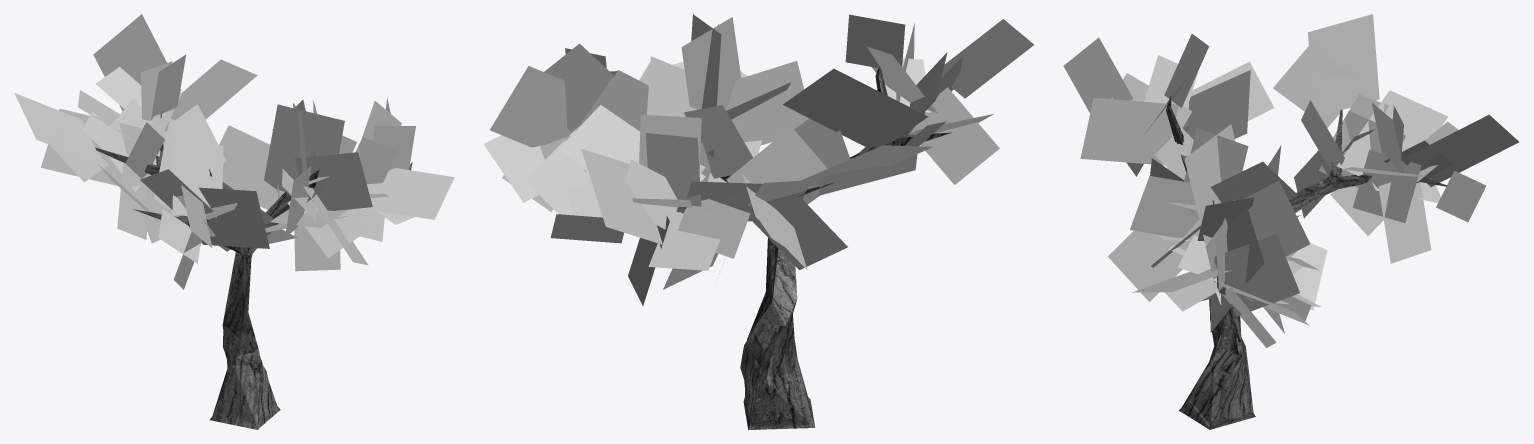
The model's file is SM_Tree_And_Bushes.fbx_SM_Tree_2_Lod.fbx.
3 renders of one model, left to right at view 1: azimuth 30°, elevation 25°; view 2: azimuth 150°, elevation 25°; view 3: azimuth 270°, elevation 25°, orthographic. The views are drawn at different scales.
Visible parts, largest first — view 1: SM_Tree_2_Lod_High.001, SM_Tree_2_Lod_Mid, SM_Tree_2_Lod_Low, SM_Tree_2_Lod_Mid.001, SM_Tree_2_Lod_High; view 2: SM_Tree_2_Lod_High.001, SM_Tree_2_Lod_Mid, SM_Tree_2_Lod_Low, SM_Tree_2_Lod_High, SM_Tree_2_Lod_Mid.001; view 3: SM_Tree_2_Lod_High.001, SM_Tree_2_Lod_Mid, SM_Tree_2_Lod_Mid.001, SM_Tree_2_Lod_High, SM_Tree_2_Lod_Low.
Part boxes in pixels (bbox=[...]): SM_Tree_2_Lod_High.001: bbox=[47, 14, 454, 289]; SM_Tree_2_Lod_Mid: bbox=[14, 61, 414, 243]; SM_Tree_2_Lod_Low: bbox=[213, 199, 290, 429]; SM_Tree_2_Lod_Mid.001: bbox=[95, 144, 291, 429]; SM_Tree_2_Lod_High: bbox=[95, 144, 319, 428]; SM_Tree_2_Lod_High.001: bbox=[483, 14, 1034, 305]; SM_Tree_2_Lod_Mid: bbox=[490, 58, 932, 270]; SM_Tree_2_Lod_Low: bbox=[745, 153, 859, 426]; SM_Tree_2_Lod_High: bbox=[615, 68, 944, 429]; SM_Tree_2_Lod_Mid.001: bbox=[676, 132, 951, 429]; SM_Tree_2_Lod_High.001: bbox=[1063, 33, 1518, 347]; SM_Tree_2_Lod_Mid: bbox=[1121, 14, 1440, 316]; SM_Tree_2_Lod_Mid.001: bbox=[1174, 110, 1371, 429]; SM_Tree_2_Lod_High: bbox=[1166, 95, 1446, 429]; SM_Tree_2_Lod_Low: bbox=[1179, 179, 1344, 424].
Size of the model in its own units: 7053 by 6075 by 7353.
